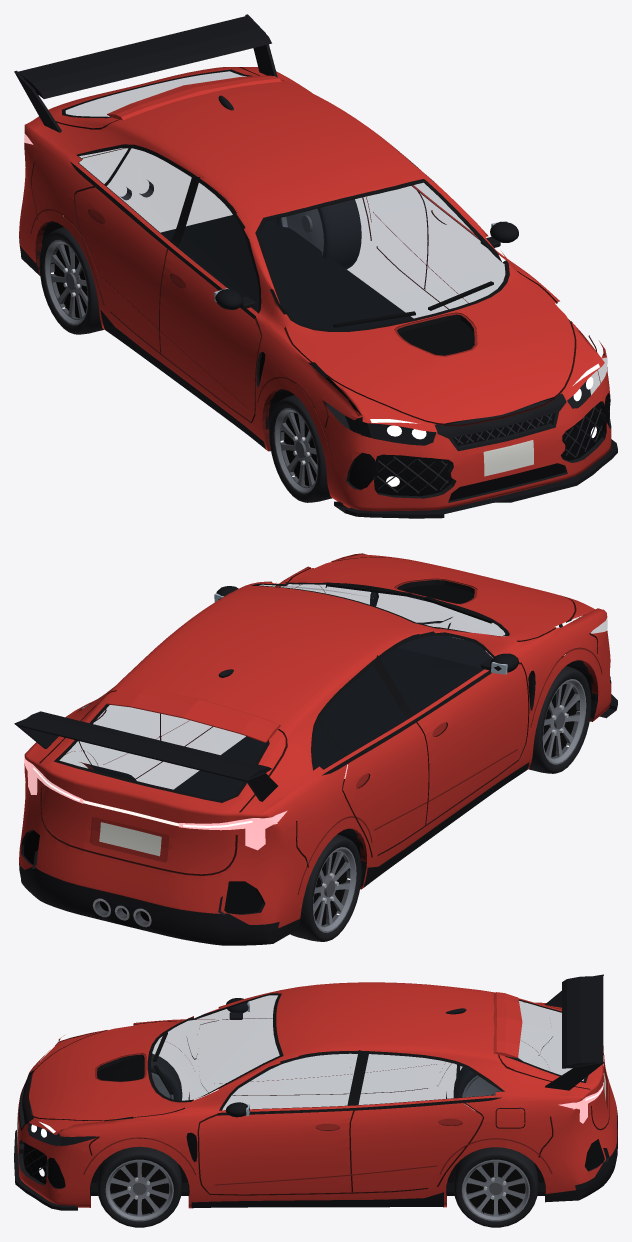
File: car.glb
The picture shows the model from 3 angles, top to bottom: view 1: azimuth 30°, elevation 25°; view 2: azimuth 150°, elevation 25°; view 3: azimuth 270°, elevation 25°; orthographic projection. The views are drawn at different scales.
Parts seen in each view (by area): view 1: body, wheel_fl, wheel_rl, wheel_rr; view 2: body, wheel_rl, wheel_fl; view 3: body, wheel_rr, wheel_fr, wheel_rl, wheel_fl.
Boxes of the visible parts, <box> form: body: <box>14,14,617,518</box>; wheel_fl: <box>269,395,350,502</box>; wheel_rl: <box>39,227,103,334</box>; wheel_rr: <box>276,199,361,269</box>; body: <box>14,553,617,945</box>; wheel_rl: <box>290,834,361,941</box>; wheel_fl: <box>528,666,591,773</box>; body: <box>14,974,617,1210</box>; wheel_rr: <box>453,1147,538,1227</box>; wheel_fr: <box>97,1146,182,1227</box>; wheel_rl: <box>453,1057,523,1109</box>; wheel_fl: <box>151,1053,182,1100</box>.
Bounding box in the file's own units: 2.03 × 1.42 × 4.58.
